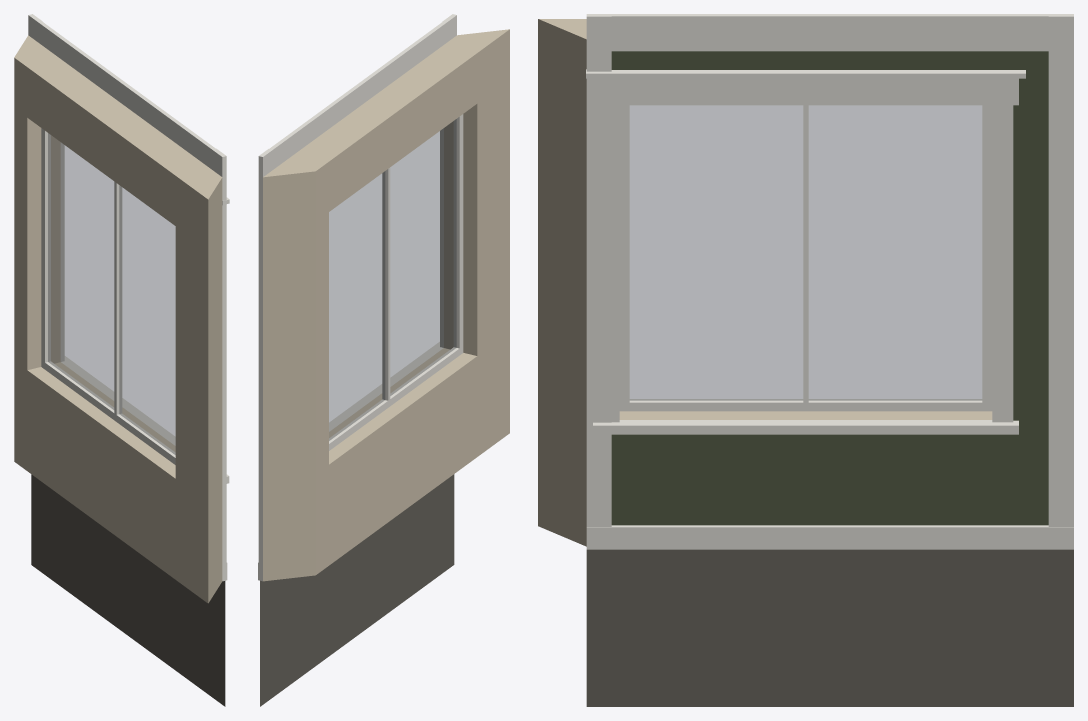
File: wall-03.glb
3 views of the same model, side by side, from view 1: azimuth 30°, elevation 25°; view 2: azimuth 150°, elevation 25°; view 3: azimuth 270°, elevation 25° (orthographic). The views are drawn at different scales.
Bounding box in the file's own units: 0.8929 × 10.9 × 7.66.
